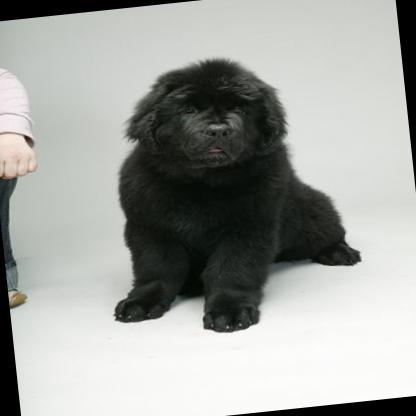Newfoundland: (84, 44, 364, 342)
